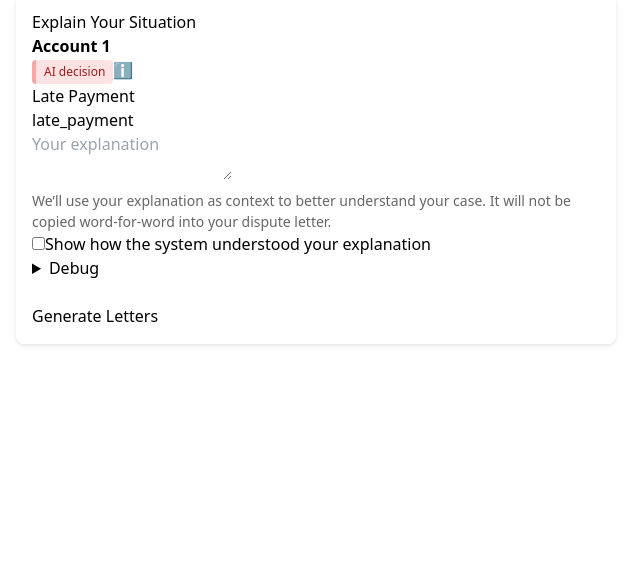
Scenario: debug panel shows meta and capped fields
What coordinates should you click on to do the following:
click the heading "Debug"
I would click on:
 (74, 268)
Its box is [49, 257, 99, 279].
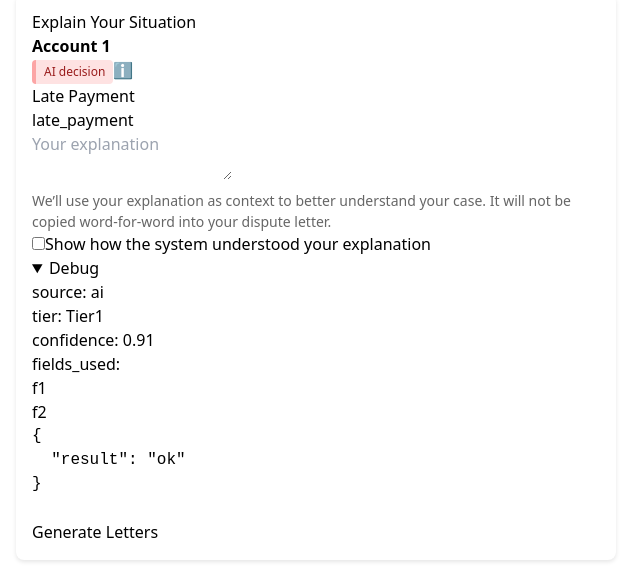
Check: the text "source: ai" is shown, box [32, 281, 104, 303]
Check: the text "tier: Tier1" is shown, box [32, 305, 104, 327]
Check: the text "confidence: 0.91" is shown, box [32, 329, 154, 351]
